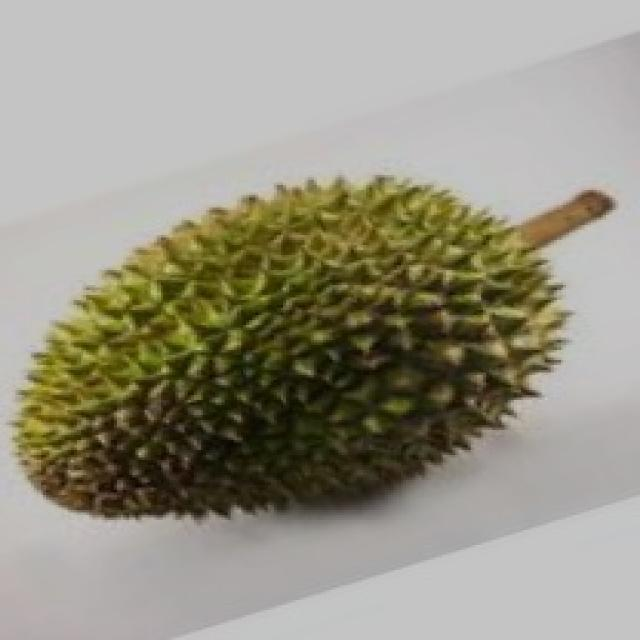fruit: (252, 145, 628, 563), (0, 155, 378, 570)
